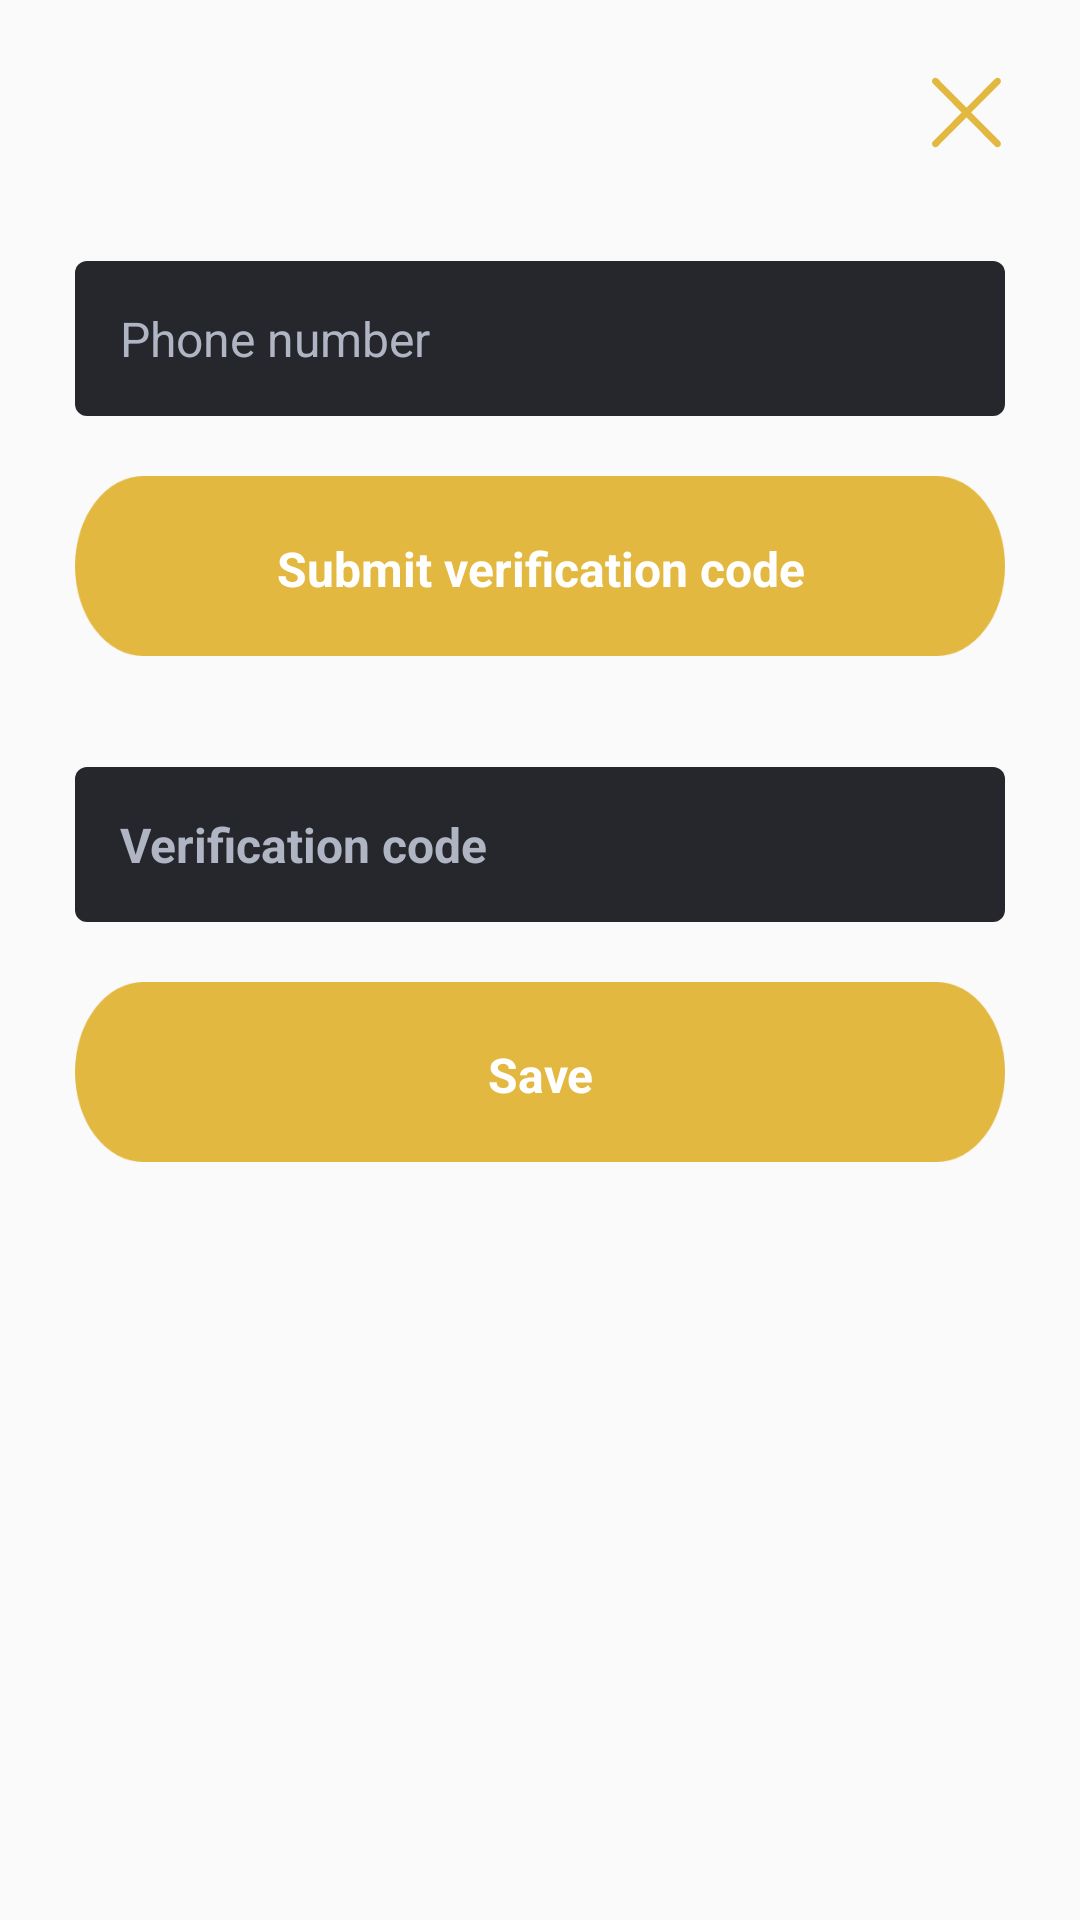

Named icons in this screenshot (1080x1920) and their bounding boxes, bbox(x1, y1, x2, y2):
close: bbox(932, 77, 1001, 148)
